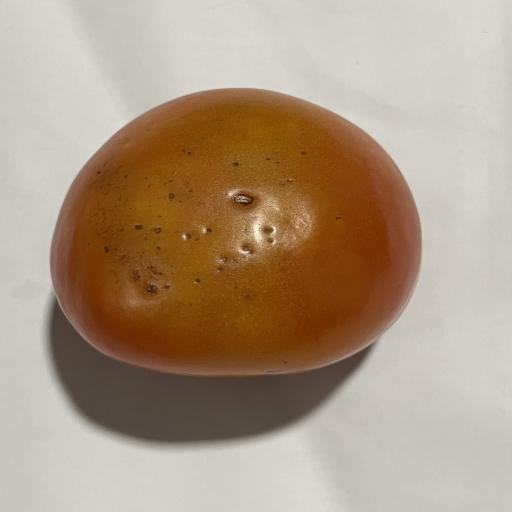overipe: (51, 89, 421, 376)
